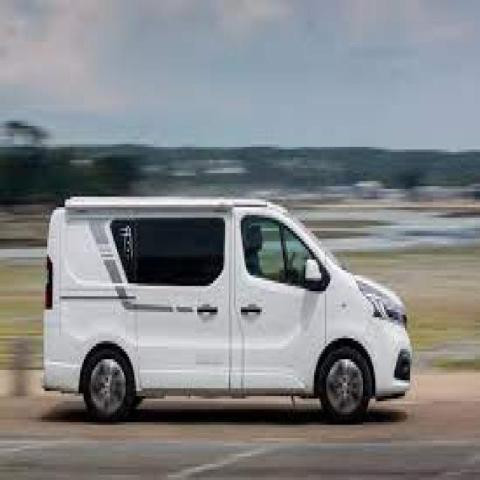van: (41, 197, 412, 425)
